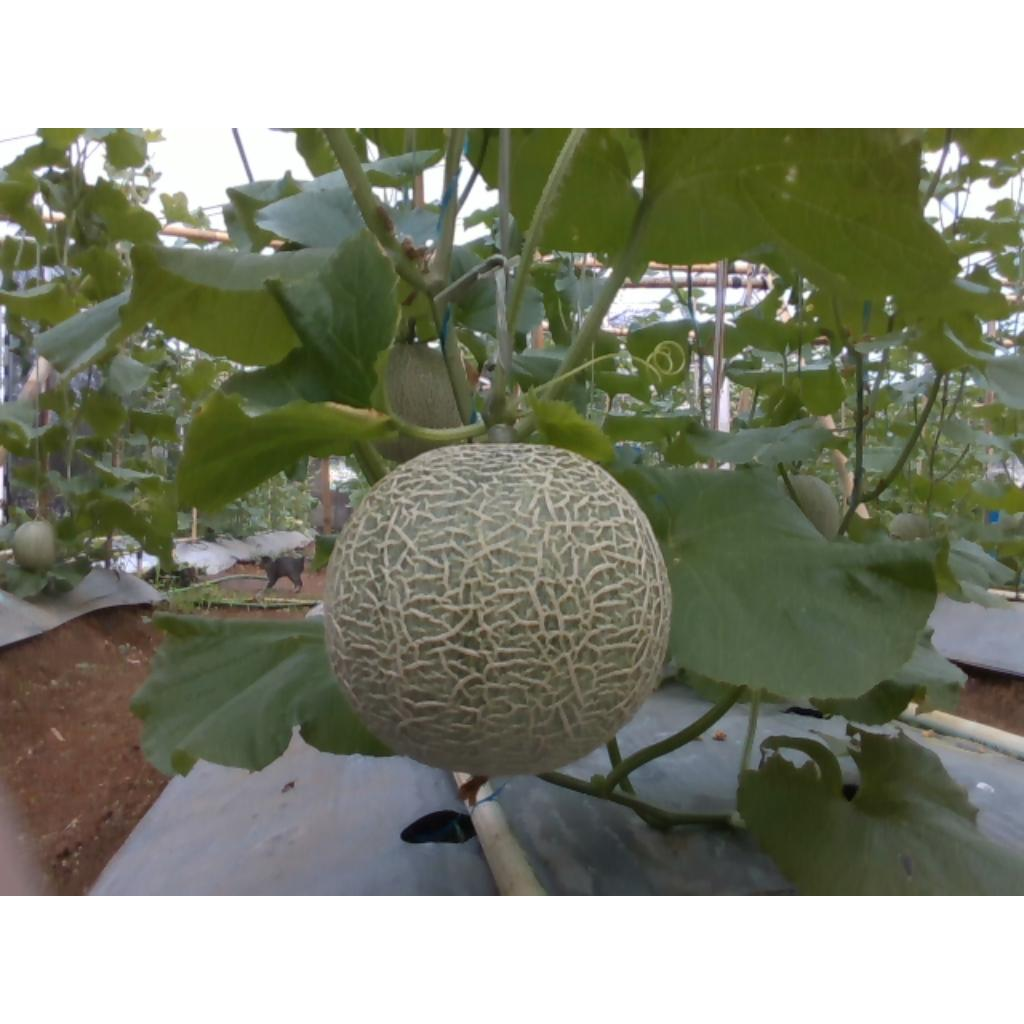melon: (326, 445, 672, 777)
